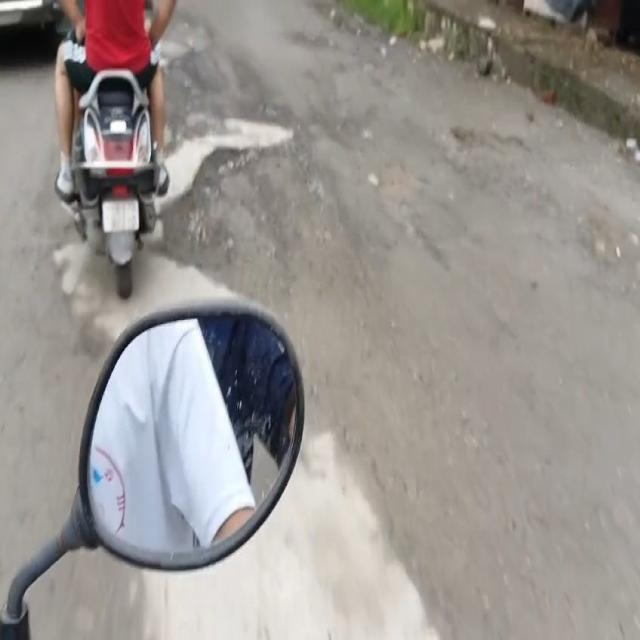road-pothole: (159, 134, 363, 306), (341, 102, 467, 269), (172, 38, 296, 126)
